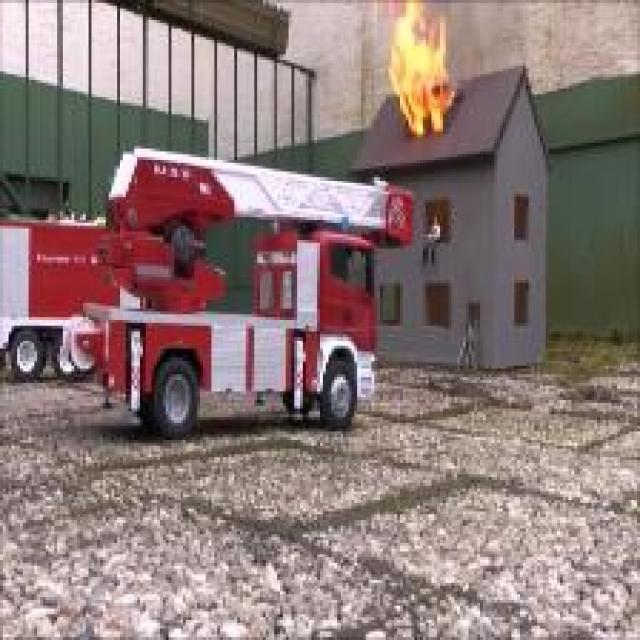Fire: (388, 0, 452, 137)
